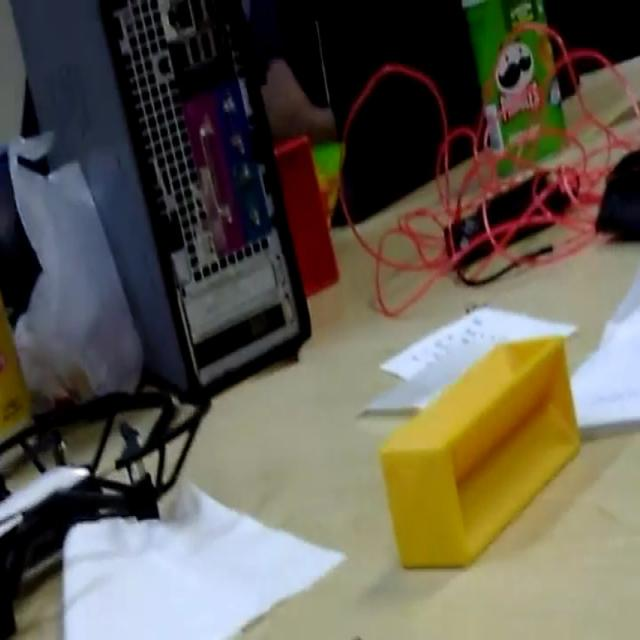red_block: (271, 132, 340, 297)
yellow_block: (379, 332, 581, 569)
